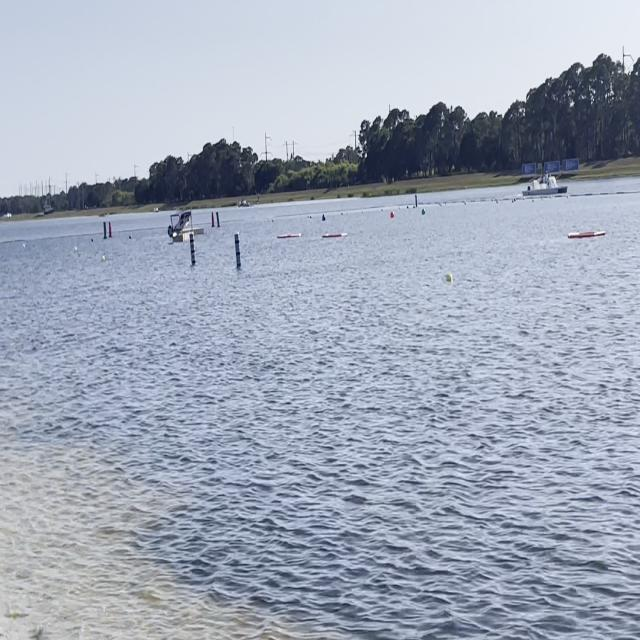buoy: (422, 208, 426, 216), (390, 210, 394, 217), (101, 255, 105, 261), (322, 214, 325, 220), (74, 246, 77, 251), (129, 234, 132, 239), (92, 238, 94, 242)
